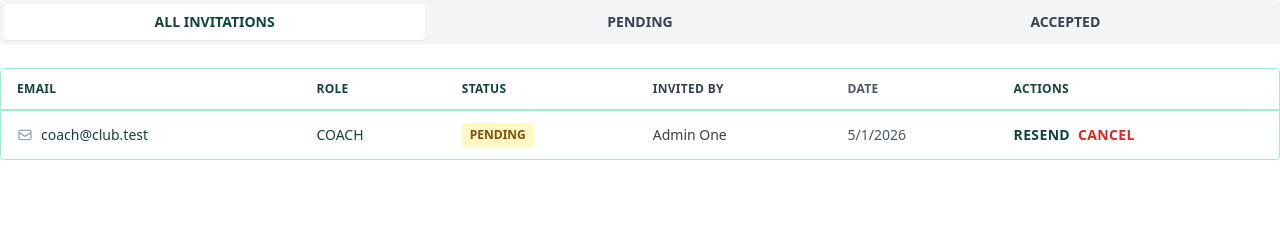
Test case: InvitationDashboard resend/revoke › cancel posts to action=cancel after confirmation
Click the button "Cancel" at point(1106, 135), box [1078,125,1135,145]
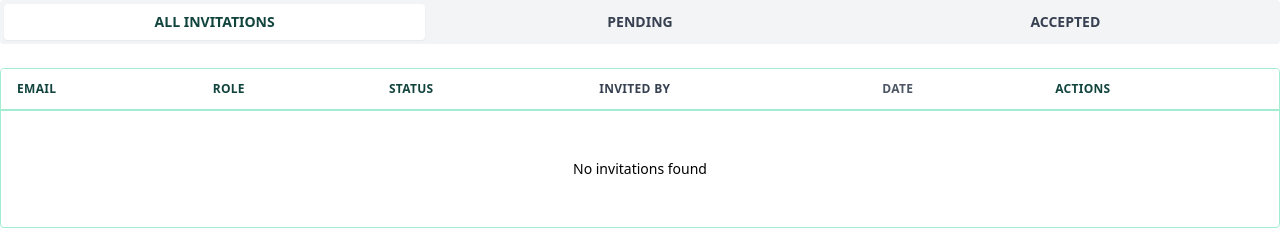
Expected: the text "No invitations found" is shown, [573,159,707,178]
